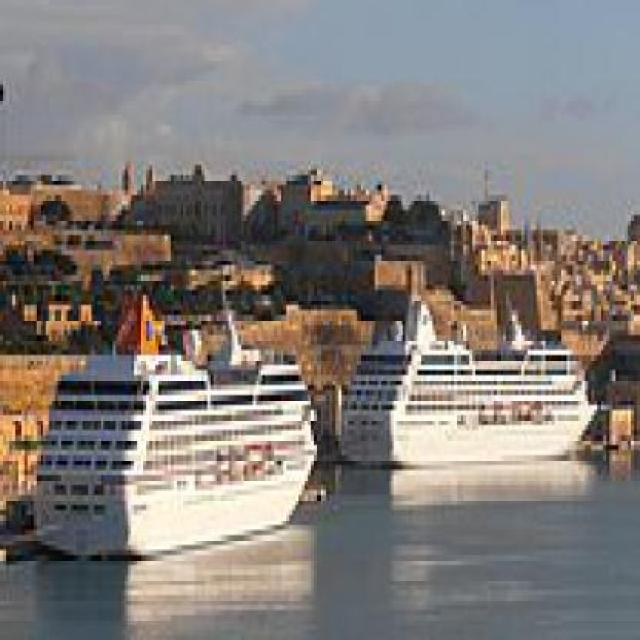cruise: (29, 321, 324, 566), (333, 291, 601, 486)
